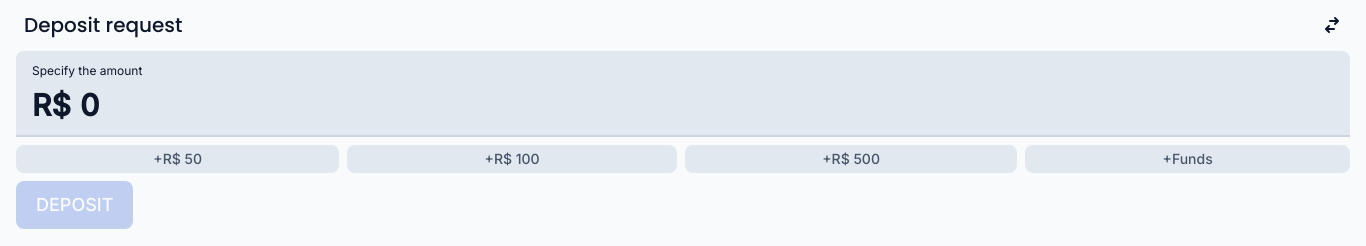
Scenario: FundsInput › should increase by X when the +X button is clicked
The width and height of the screenshot is (1366, 246).
Click the button "+R$ 50".
click(178, 159)  # box top-left (16, 145), bottom-right (339, 173)
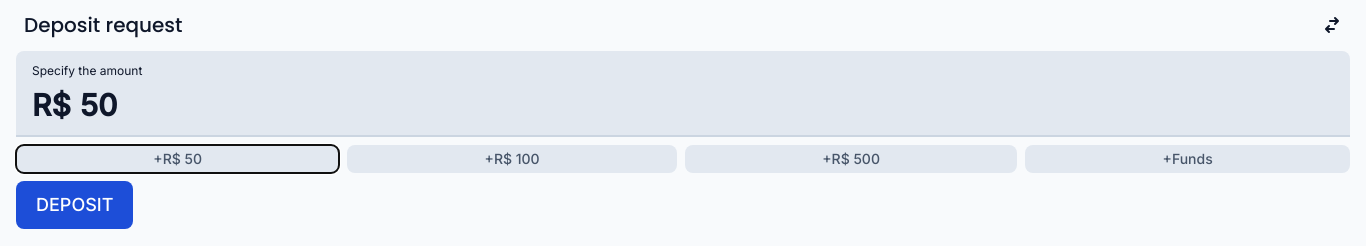
Expected: the number field labelled "Specify the amount" holds "50", top-left (16, 51), bottom-right (1350, 137)
Click the button "+R$ 100".
click(512, 159)  # box top-left (347, 145), bottom-right (677, 173)
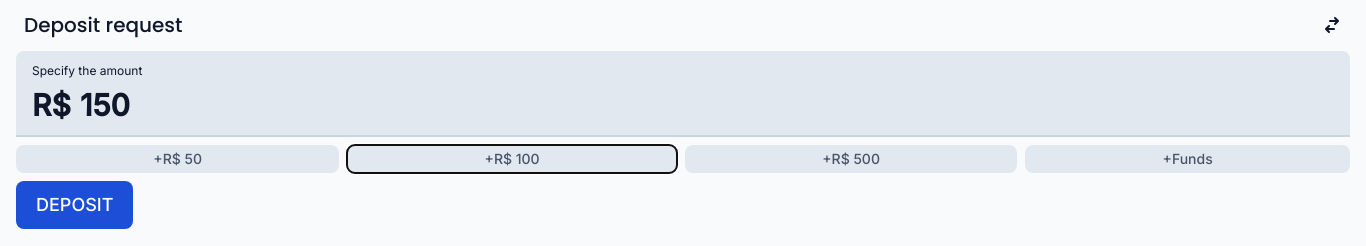
Expected: the number field labelled "Specify the amount" holds "150", top-left (16, 51), bottom-right (1350, 137)
Click the button "+R$ 500".
click(851, 159)  # box top-left (685, 145), bottom-right (1017, 173)
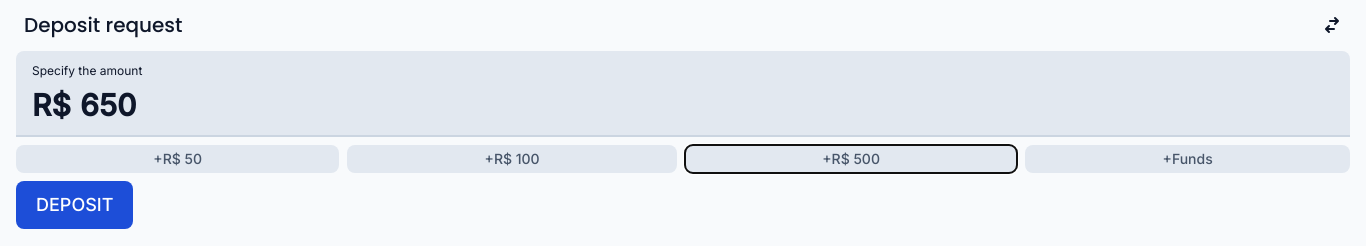
Expected: the number field labelled "Specify the amount" holds "650", top-left (16, 51), bottom-right (1350, 137)
